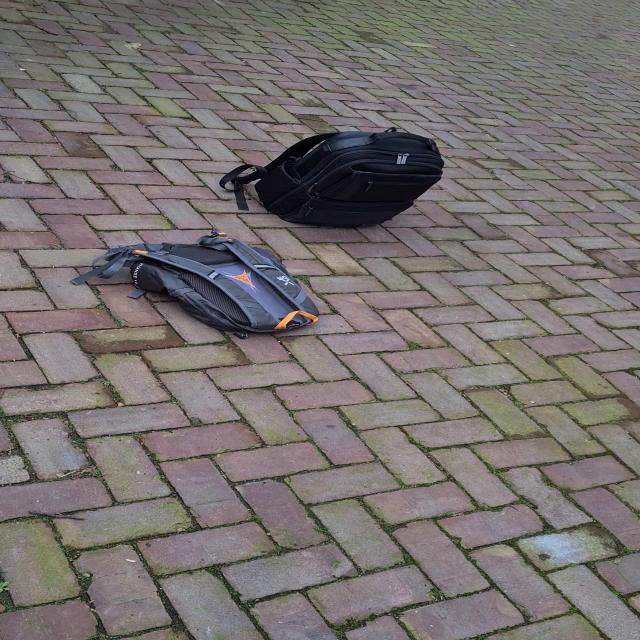backpack: (103, 229, 324, 336), (247, 125, 452, 230)
